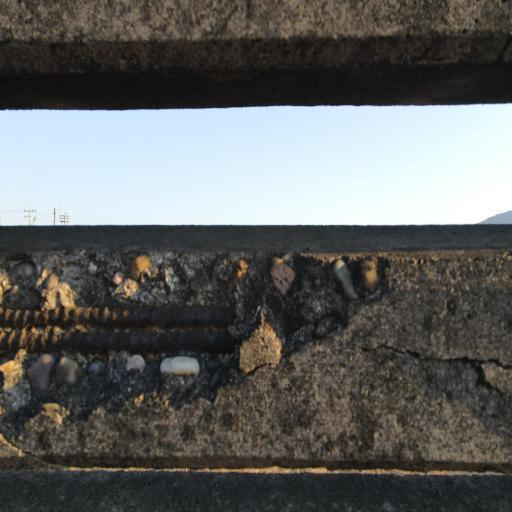exposed_rebar: (0, 304, 236, 354)
spalling: (0, 250, 388, 436)
